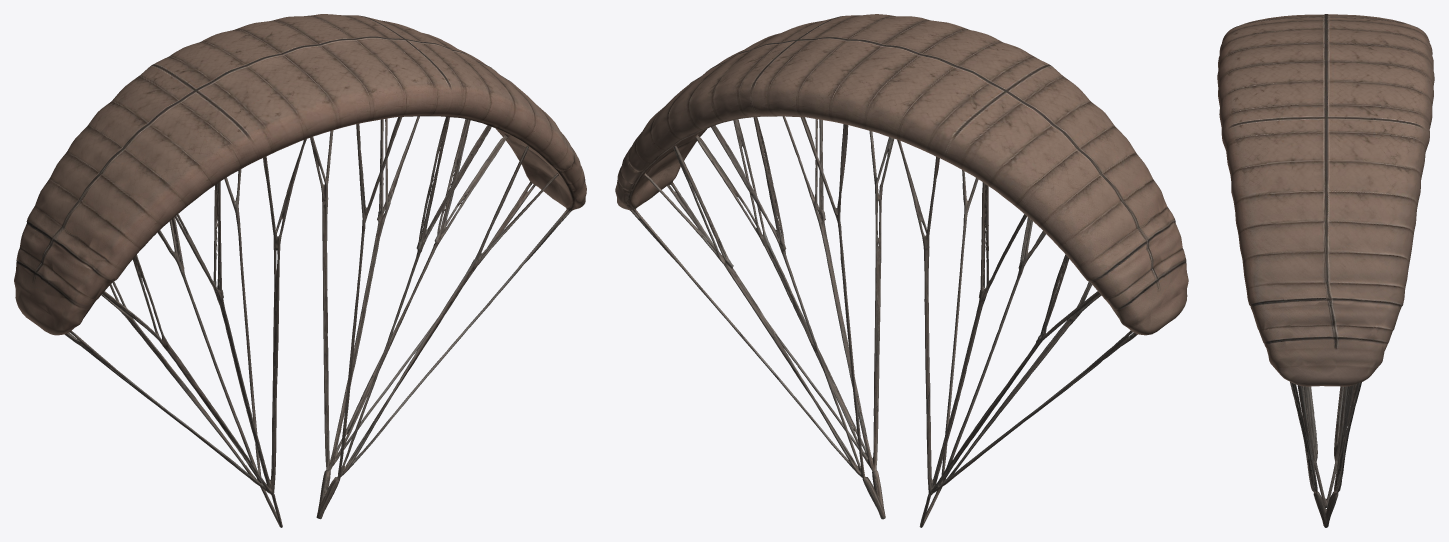
File: paraglider.glb
The picture shows the model from 3 angles, left to right: view 1: azimuth 30°, elevation 25°; view 2: azimuth 150°, elevation 25°; view 3: azimuth 270°, elevation 25°; orthographic projection.
Parts seen in each view (by area): view 1: parachute; view 2: parachute; view 3: parachute.
Boxes of the visible parts, bbox=[...] form: parachute: bbox=[14, 14, 586, 527]; parachute: bbox=[615, 14, 1188, 527]; parachute: bbox=[1217, 14, 1434, 527].
Size of the model in its own units: 1.9 by 1.61 by 0.6756.
Materials: 1 (1 with a texture image).
